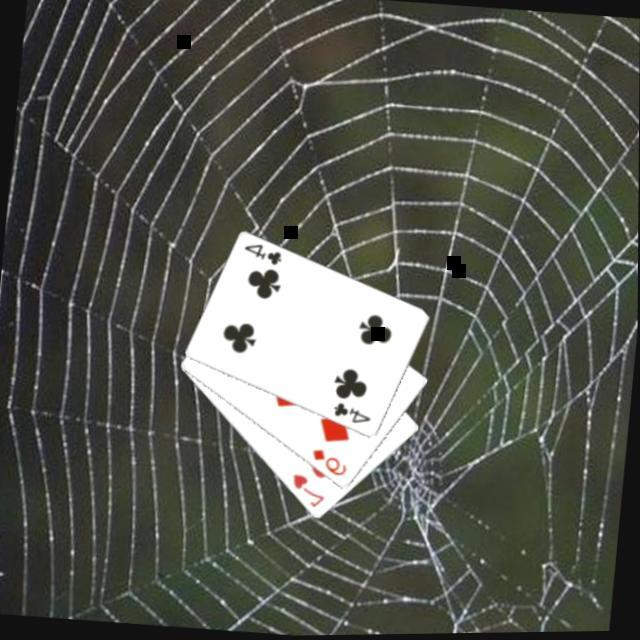4C: (238, 237, 286, 269), (328, 397, 374, 428)
6D: (308, 444, 350, 478)
7H: (286, 469, 328, 511)
